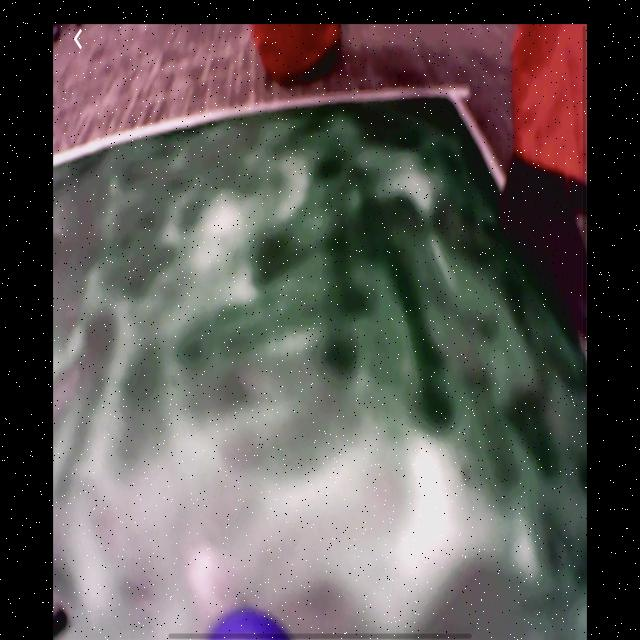ball: (211, 604, 290, 640)
